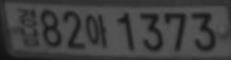1: (115, 11, 137, 51)
2: (63, 10, 86, 50)
3: (191, 11, 217, 51), (138, 12, 163, 51)
7: (164, 11, 187, 51)
8: (40, 8, 62, 46)
경남_V: (16, 6, 40, 48)
아: (85, 13, 108, 47)
